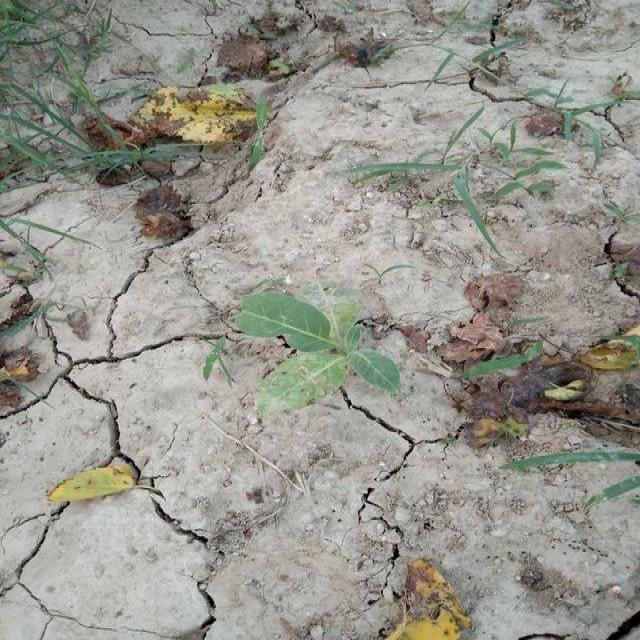crop: (218, 264, 411, 434)
